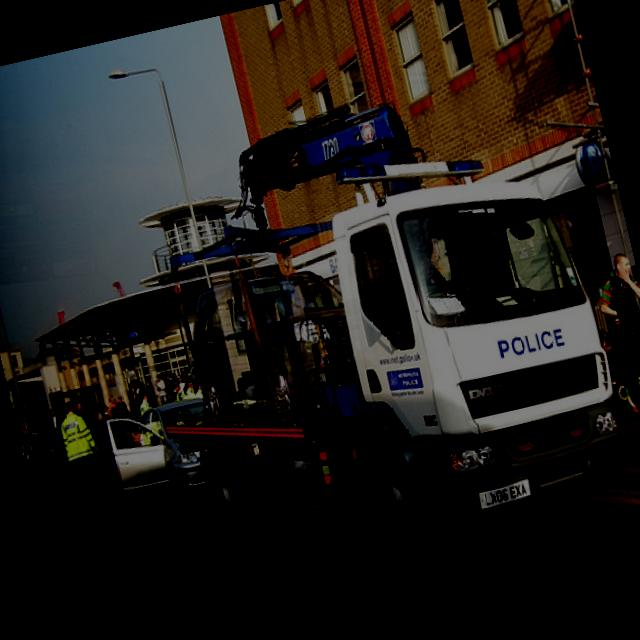Vehicle: (108, 64, 640, 598), (177, 258, 366, 444), (105, 393, 227, 511), (88, 420, 120, 484), (19, 433, 54, 463)
